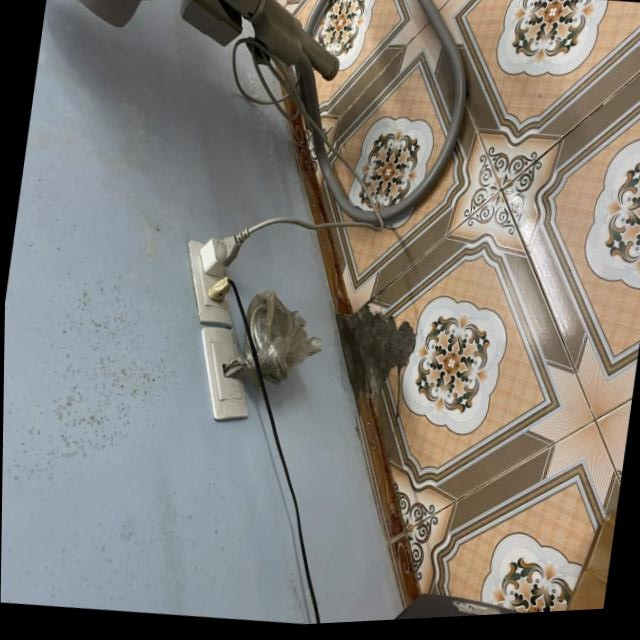outlet: (176, 236, 243, 330)
